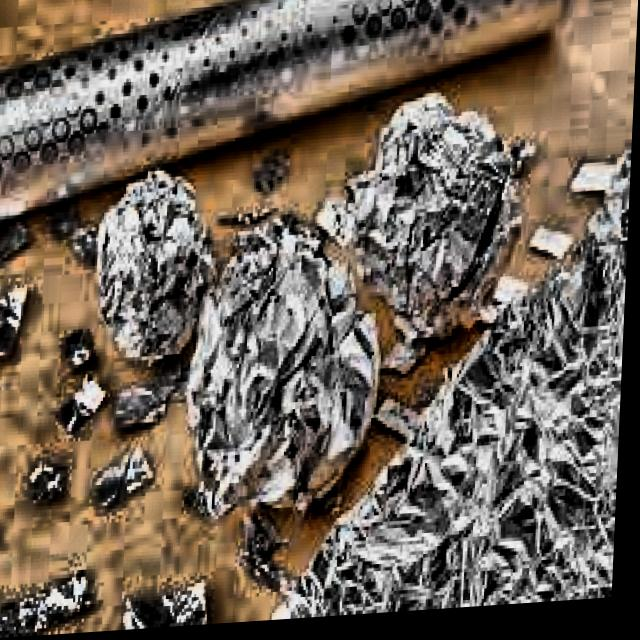Foil: (264, 156, 631, 625), (164, 197, 392, 538), (321, 89, 510, 355), (83, 147, 217, 399)
